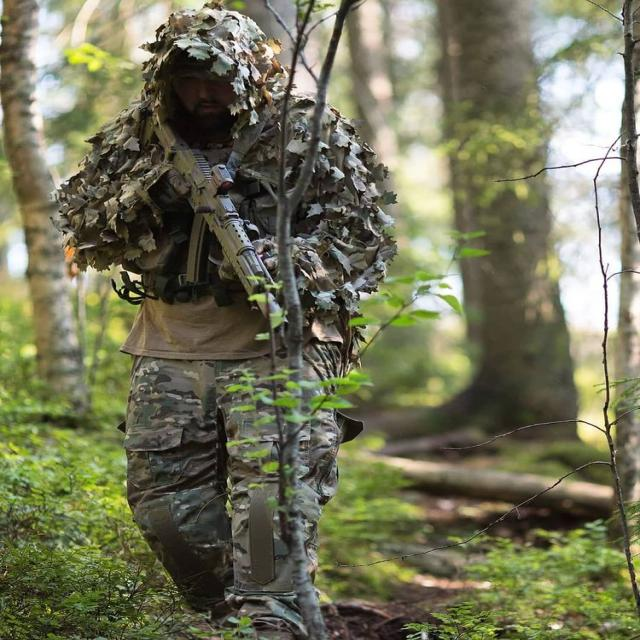Camouflage: (55, 11, 400, 616)
